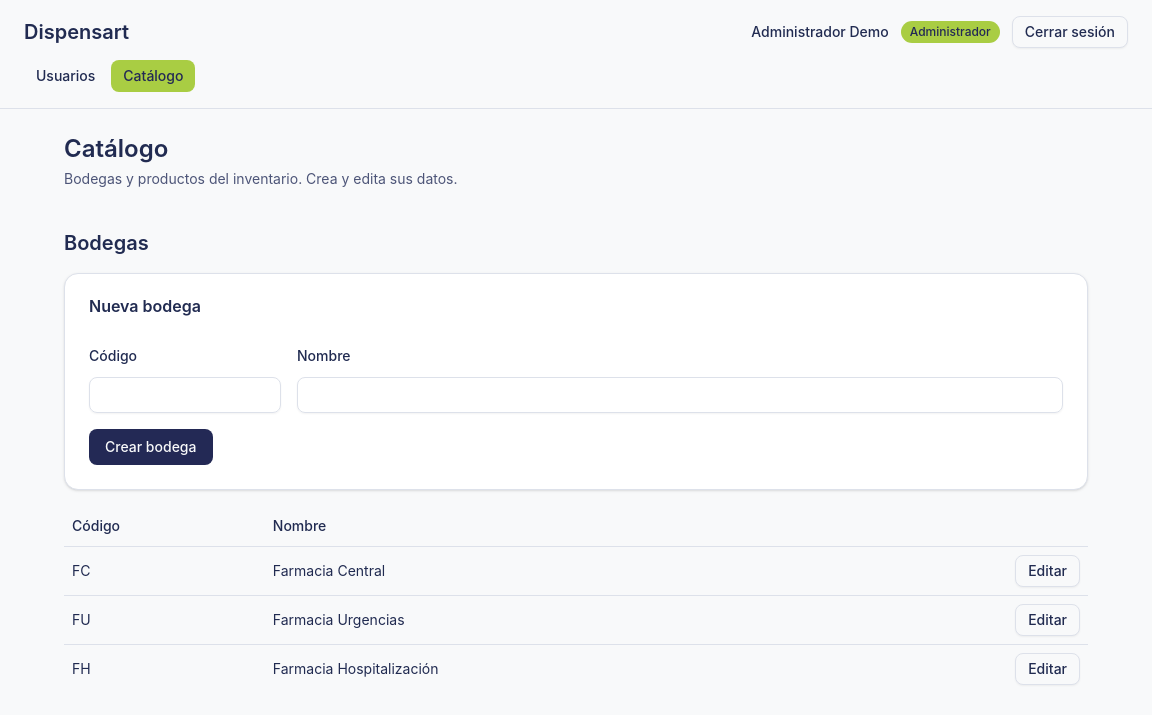
Test: Alta de bodega › Alta exitosa de bodega: un solo POST con el cuerpo, confirmación, formulario vacío y la bodega en la lista
Expected: the table named "Bodegas registradas" is shown, left=64, top=506, right=1088, bottom=693
In the field labelled "Código": (185, 395) left=89, top=377, right=281, bottom=413, type "FC2"
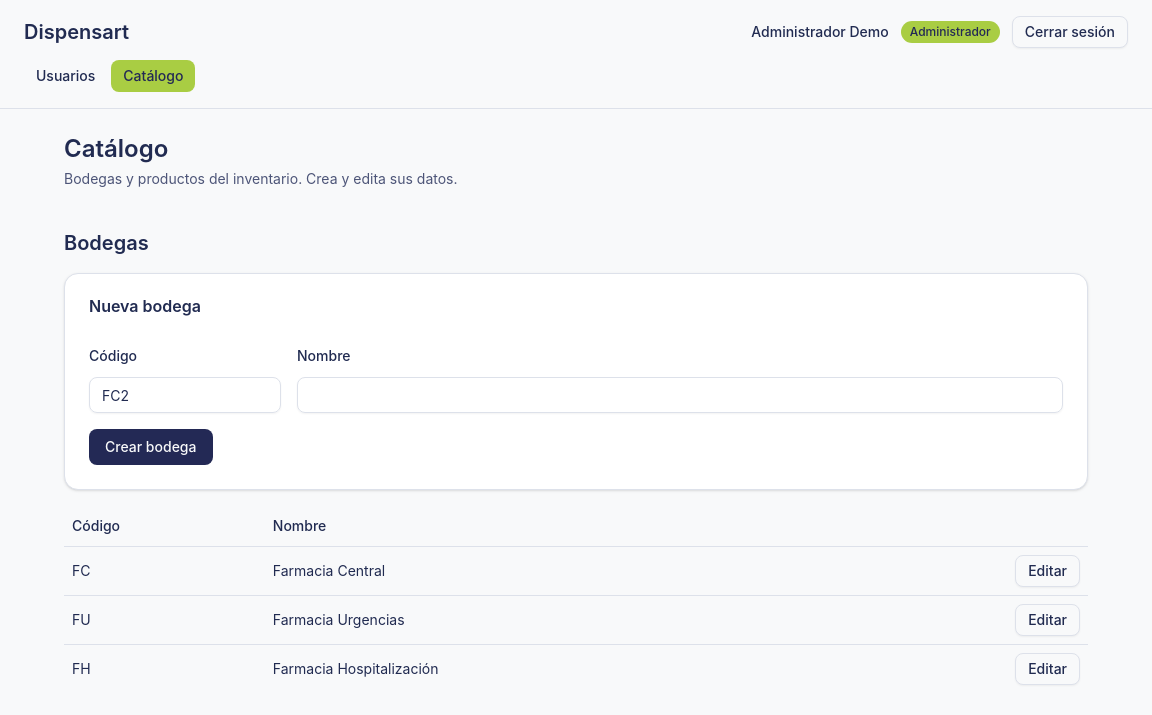
In the field labelled "Nombre": (680, 395) left=297, top=377, right=1063, bottom=413, type "Farmacia Consulta Externa"
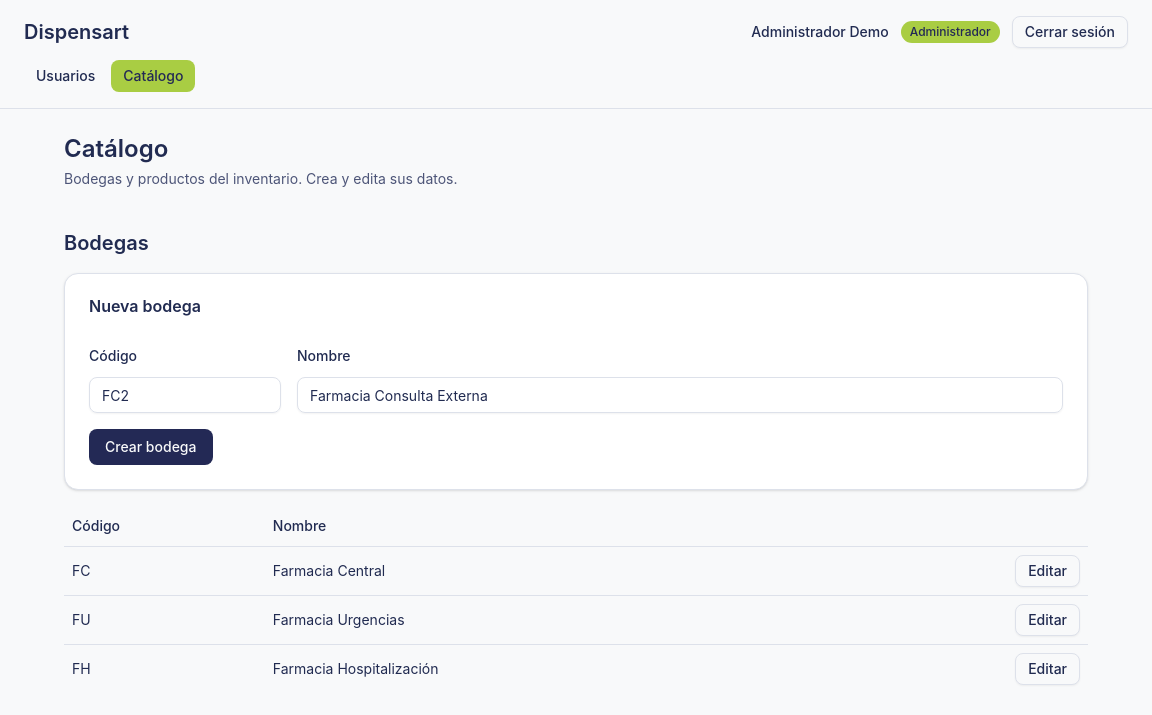
Click the button "Crear bodega": (151, 447) left=89, top=429, right=212, bottom=465
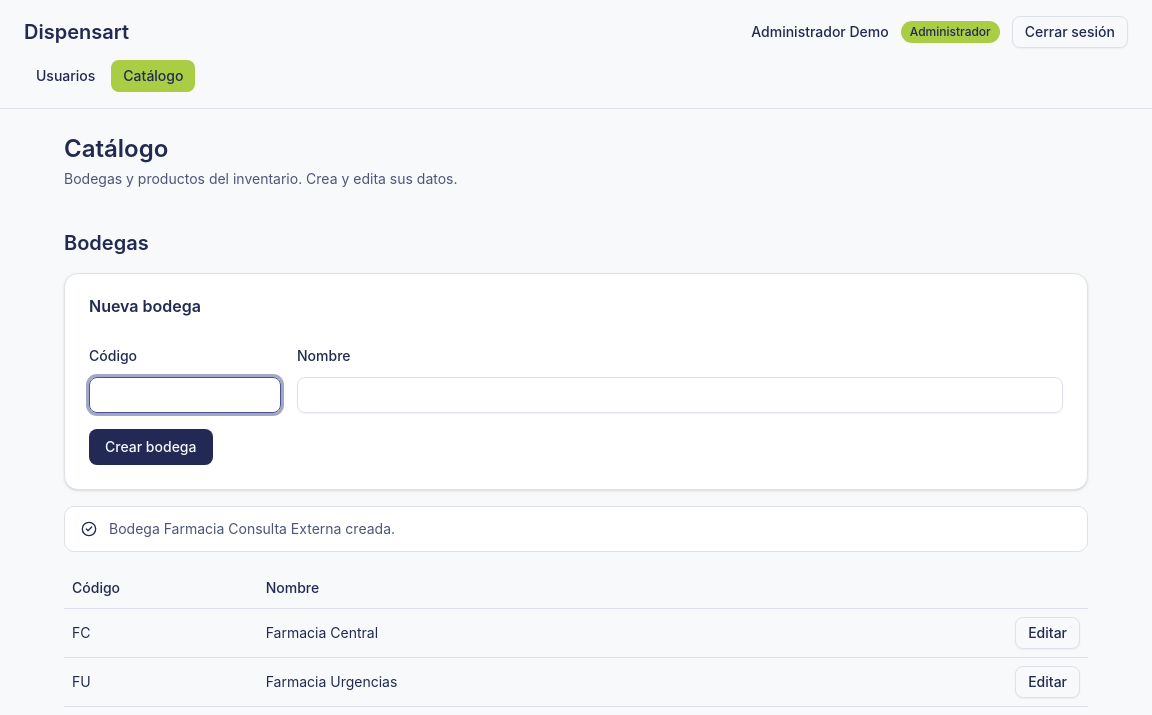
Expected: the text "Bodega Farmacia Consulta Externa creada." is shown, left=109, top=520, right=395, bottom=537
Expected: the field labelled "Código" is empty, left=89, top=377, right=281, bottom=413
Expected: the field labelled "Nombre" is empty, left=297, top=377, right=1063, bottom=413
